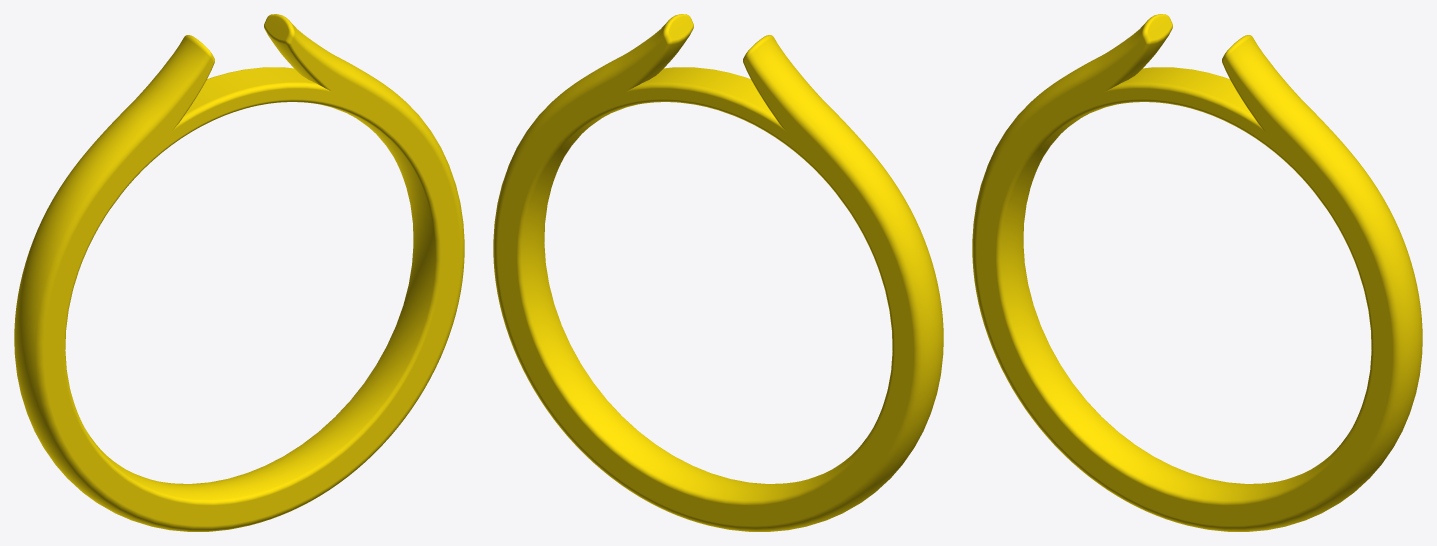
3 renders of one model, left to right at view 1: azimuth 30°, elevation 25°; view 2: azimuth 150°, elevation 25°; view 3: azimuth 330°, elevation 25°, orthographic.
Visible parts, largest first — view 1: SH-Plain-33dm; view 2: SH-Plain-33dm; view 3: SH-Plain-33dm.
Part boxes in pixels (x1,y1,x2,y2): SH-Plain-33dm: [14, 14, 464, 531]; SH-Plain-33dm: [493, 14, 943, 531]; SH-Plain-33dm: [972, 14, 1422, 531].
Bounding box in the file's own units: 20.91 × 22.51 × 2.1.
